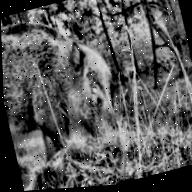boar: (0, 0, 133, 172)
